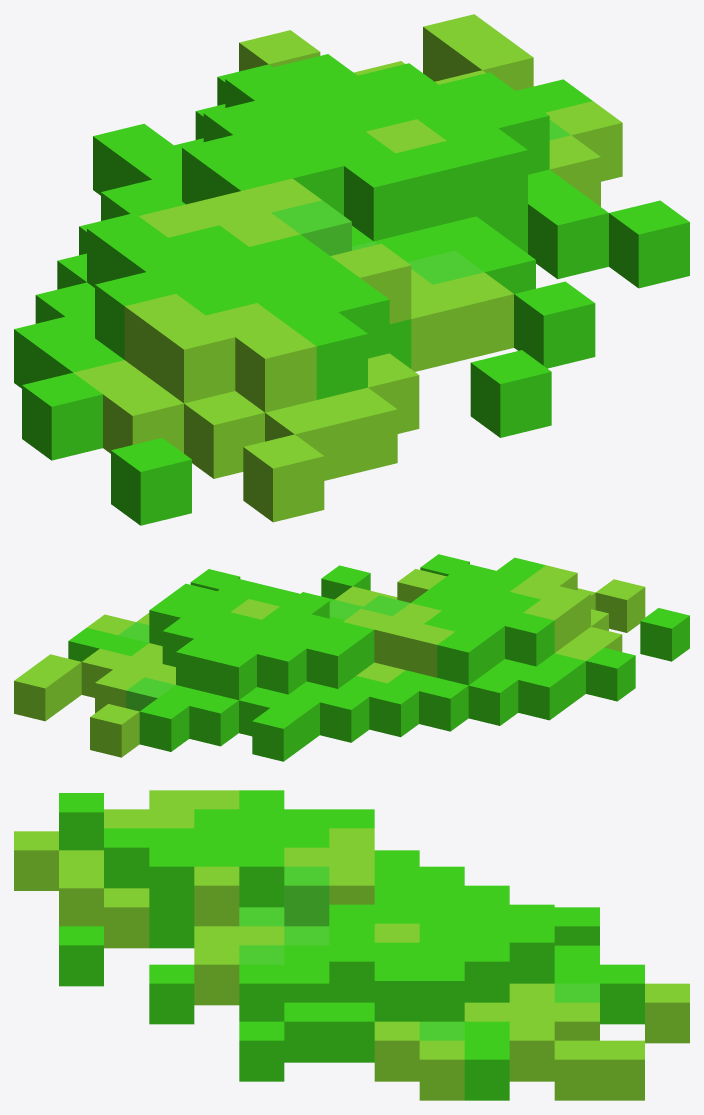
The model's file is grass_patches-3.obj.
3 views of the same model, one above another, from view 1: azimuth 30°, elevation 25°; view 2: azimuth 150°, elevation 25°; view 3: azimuth 270°, elevation 25° (orthographic). The views are drawn at different scales.
Bounding box in the file's own units: 1.4 × 0.2 × 1.5.
Materials: 1 (1 with a texture image).
